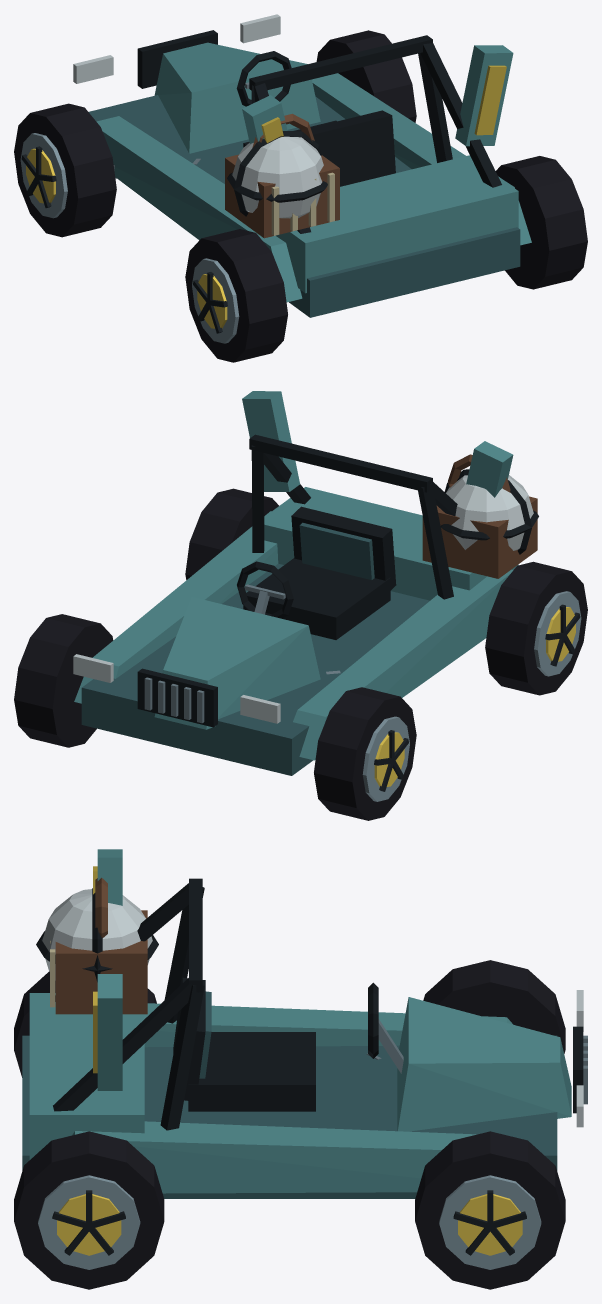
The model's file is kart.glb.
3 renders of one model, top to bottom at view 1: azimuth 30°, elevation 25°; view 2: azimuth 150°, elevation 25°; view 3: azimuth 270°, elevation 25°, orthographic. The views are drawn at different scales.
Visible parts, largest first — view 1: identity-buggy-buggy-offroad-frame, wheel-rear-left, wheel-front-left, wheel-rear-right, identity-buggy-motif-ball, identity-buggy-motif-ears, identity-buggy-driver-cockpit, identity-buggy-motif-basket, wheel-front-right; view 2: identity-buggy-buggy-offroad-frame, identity-buggy-driver-cockpit, wheel-rear-left, wheel-front-left, wheel-front-right, identity-buggy-motif-ears, identity-buggy-motif-ball, identity-buggy-motif-basket, wheel-rear-right; view 3: identity-buggy-buggy-offroad-frame, wheel-front-right, wheel-rear-right, identity-buggy-driver-cockpit, wheel-front-left, identity-buggy-motif-basket, identity-buggy-motif-ball, identity-buggy-motif-ears, wheel-rear-left.
Part boxes in pixels (bbox=[...]): identity-buggy-buggy-offroad-frame: bbox=[73, 14, 531, 317]; wheel-rear-left: bbox=[185, 229, 287, 362]; wheel-front-left: bbox=[14, 103, 116, 237]; wheel-rear-right: bbox=[495, 156, 587, 289]; identity-buggy-motif-ball: bbox=[227, 131, 327, 218]; identity-buggy-motif-ears: bbox=[242, 45, 513, 146]; identity-buggy-driver-cockpit: bbox=[236, 51, 395, 186]; identity-buggy-motif-basket: bbox=[225, 113, 339, 238]; wheel-front-right: bbox=[316, 30, 416, 122]; identity-buggy-buggy-offroad-frame: bbox=[73, 434, 518, 775]; identity-buggy-driver-cockpit: bbox=[237, 506, 396, 639]; wheel-rear-left: bbox=[485, 561, 587, 695]; wheel-front-left: bbox=[314, 687, 416, 820]; wheel-front-right: bbox=[14, 614, 113, 747]; identity-buggy-motif-ears: bbox=[242, 391, 513, 497]; identity-buggy-motif-ball: bbox=[440, 469, 538, 554]; identity-buggy-motif-basket: bbox=[422, 454, 537, 578]; wheel-rear-right: bbox=[185, 488, 278, 579]; identity-buggy-buggy-offroad-frame: bbox=[22, 878, 587, 1198]; wheel-front-right: bbox=[415, 1131, 565, 1289]; wheel-rear-right: bbox=[14, 1131, 164, 1289]; identity-buggy-driver-cockpit: bbox=[173, 977, 403, 1111]; wheel-front-left: bbox=[423, 960, 565, 1053]; identity-buggy-motif-basket: bbox=[50, 877, 147, 1014]; identity-buggy-motif-ball: bbox=[36, 888, 158, 982]; identity-buggy-motif-ears: bbox=[93, 849, 122, 1090]; wheel-rear-left: bbox=[14, 971, 156, 1077].
Size of the model in its own units: 2.31 by 1.46 by 2.75.
